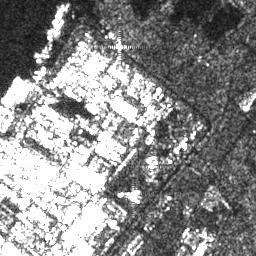ship: (1, 72, 23, 106), (52, 2, 65, 27)
